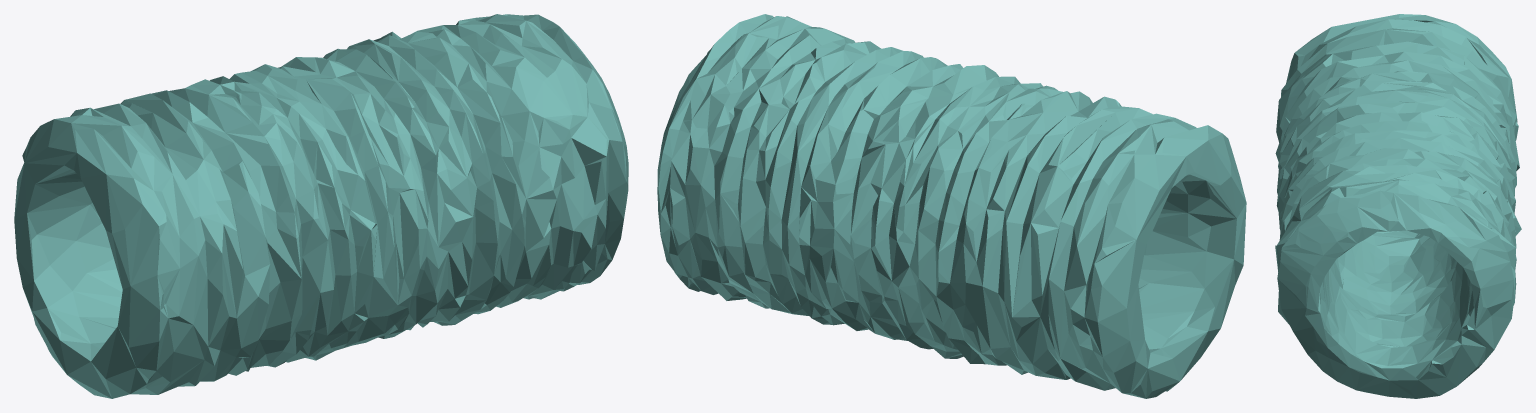
Rendered from valve-3.glb.
The picture shows the model from 3 angles, left to right: view 1: azimuth 30°, elevation 25°; view 2: azimuth 150°, elevation 25°; view 3: azimuth 270°, elevation 25°; orthographic projection. The views are drawn at different scales.
Visible parts, largest first — view 1: part_03; view 2: part_03; view 3: part_03.
Part boxes in pixels (<box>): part_03: <box>14,14,628,398</box>; part_03: <box>657,14,1246,398</box>; part_03: <box>1275,14,1521,398</box>.
Size of the model in its own units: 0.3662 by 0.1852 by 0.1945.
